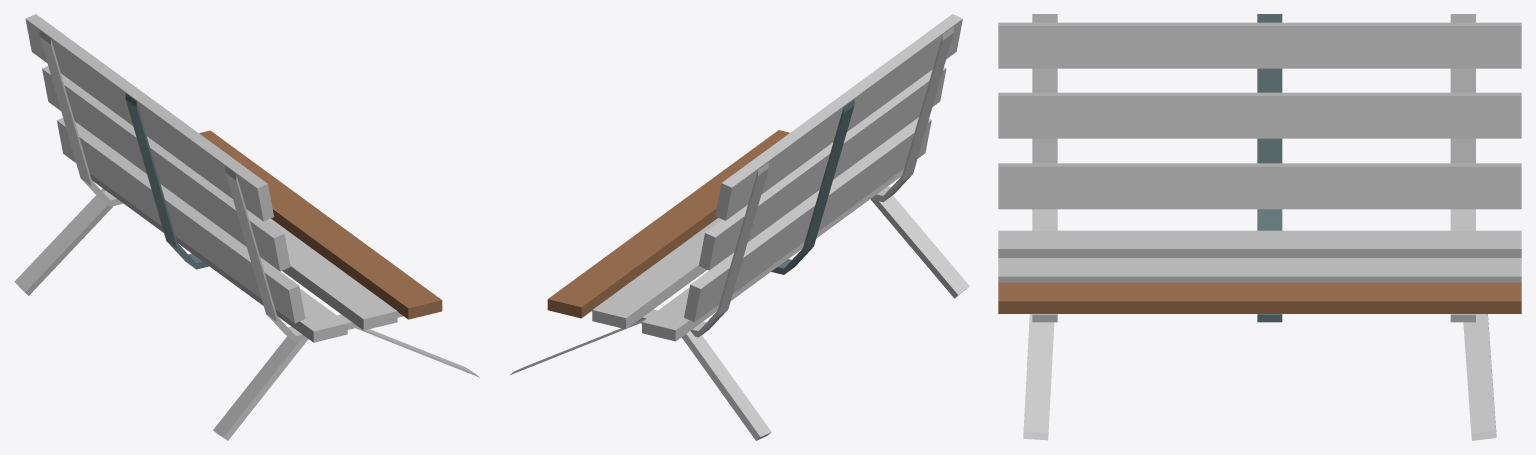
Rendered from Bench.fbx.
The picture shows the model from 3 angles, left to right: view 1: azimuth 30°, elevation 25°; view 2: azimuth 150°, elevation 25°; view 3: azimuth 270°, elevation 25°; orthographic projection. The views are drawn at different scales.
Visible parts, largest first — view 1: Cube.003; view 2: Cube.003; view 3: Cube.003.
Boxes of the visible parts, x1,y1,x2,y2 form: Cube.003: [14, 14, 479, 440]; Cube.003: [510, 14, 969, 440]; Cube.003: [998, 14, 1521, 440].
Bounding box in the file's own units: 480 × 475 × 756.
